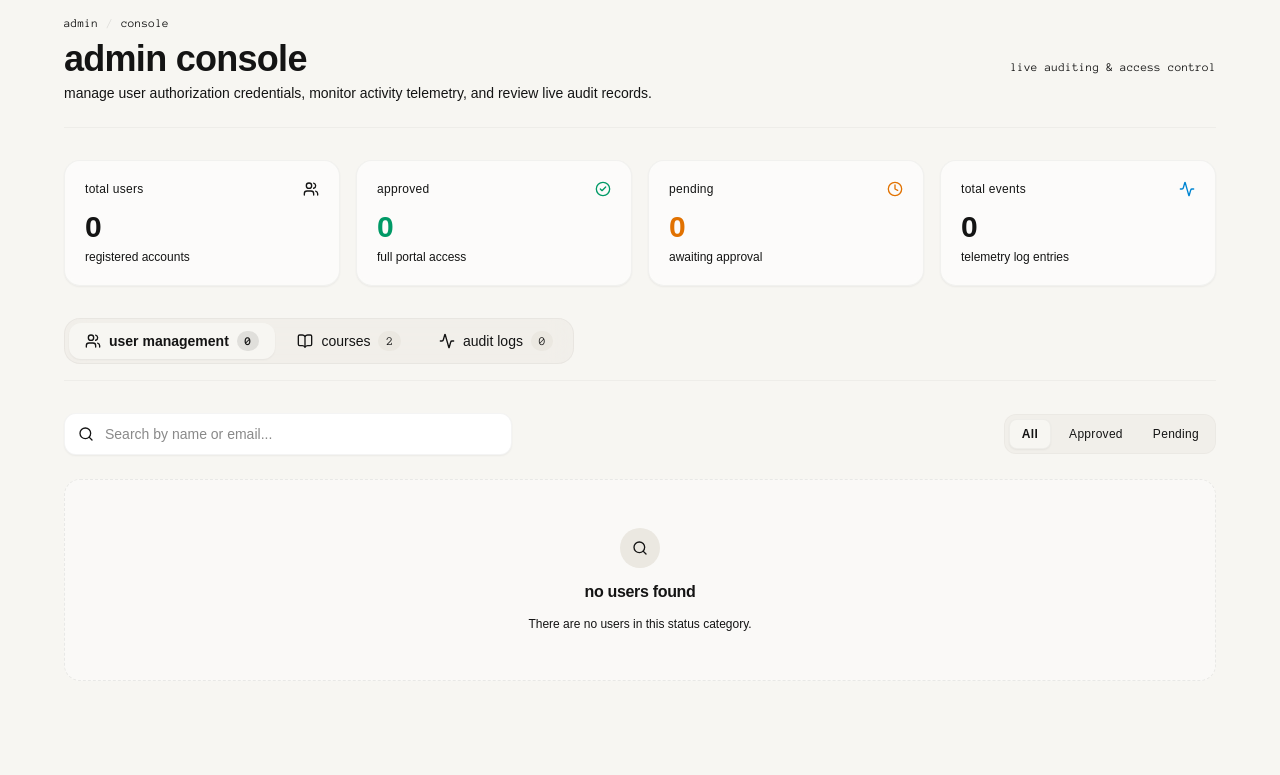
Test case: AdminPage Course Management › renders Courses tab and displays course items with visibility toggle
The width and height of the screenshot is (1280, 775).
Note: Click on Courses tab
Click the tab "courses 2" at point(349, 341), box [281,323,417,359]
(page scrolled)
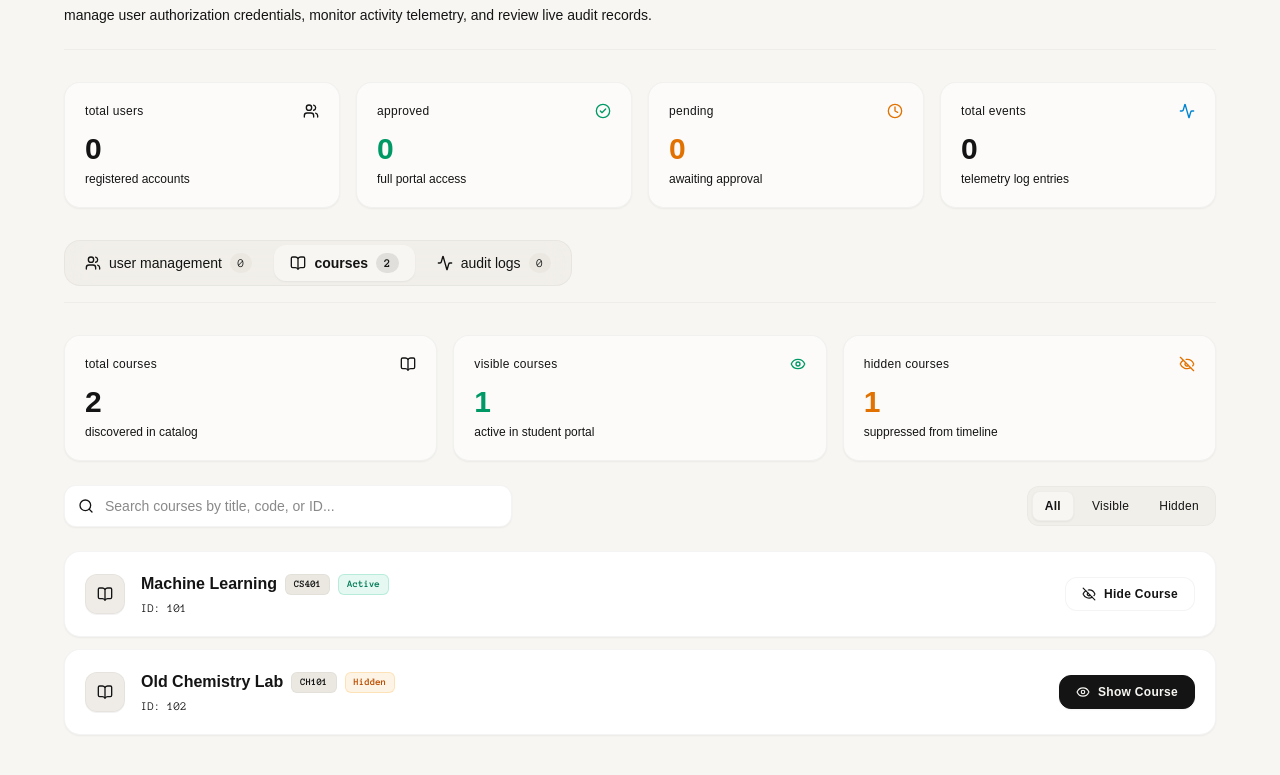
expect the text "Machine Learning" is shown: met, box [141,572,277,596]
expect the text "Old Chemistry Lab" is shown: met, box [141,670,283,694]
expect the text "Hide Course" is shown: met, box [1104,586,1178,602]
